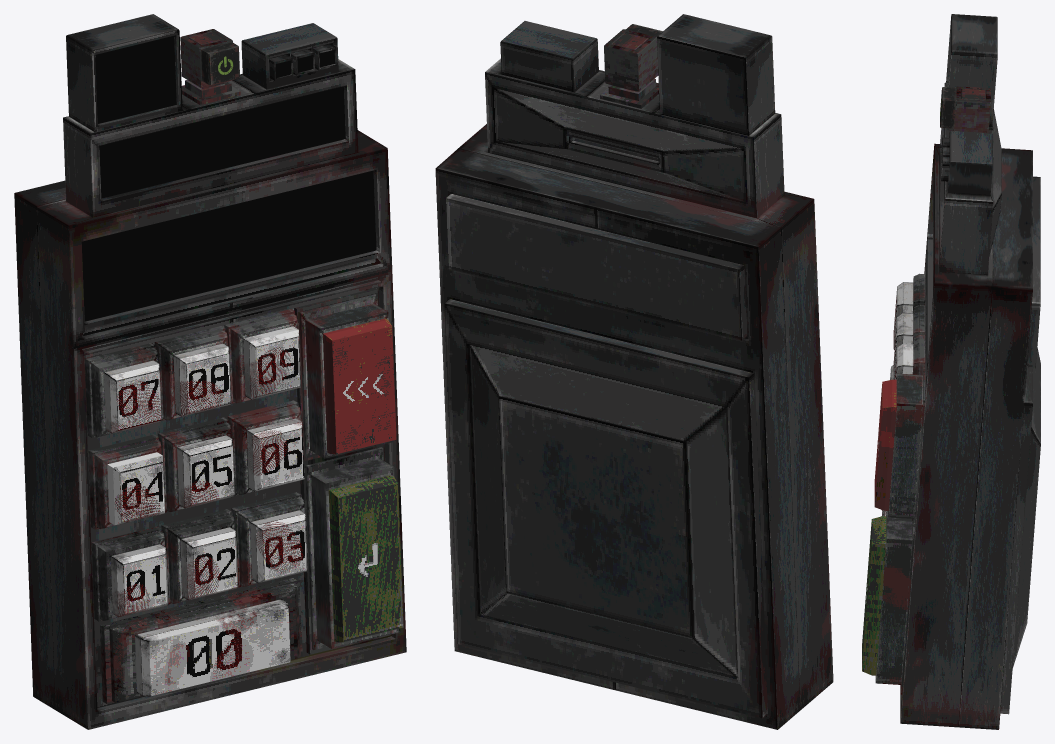
Rendered from Required_Calcs.glb.
The picture shows the model from 3 angles, left to right: view 1: azimuth 30°, elevation 25°; view 2: azimuth 150°, elevation 25°; view 3: azimuth 270°, elevation 25°; orthographic projection. The views are drawn at different scales.
Parts seen in each view (by area): view 1: 0; view 2: 0; view 3: 0.
Part boxes in pixels (box(x1,y1,x2,y2)): 0: box(14, 14, 406, 729); 0: box(435, 14, 833, 729); 0: box(862, 14, 1040, 729).
Size of the model in its own units: 2.9 by 5.72 by 1.57.
5 materials, 4 textured.
